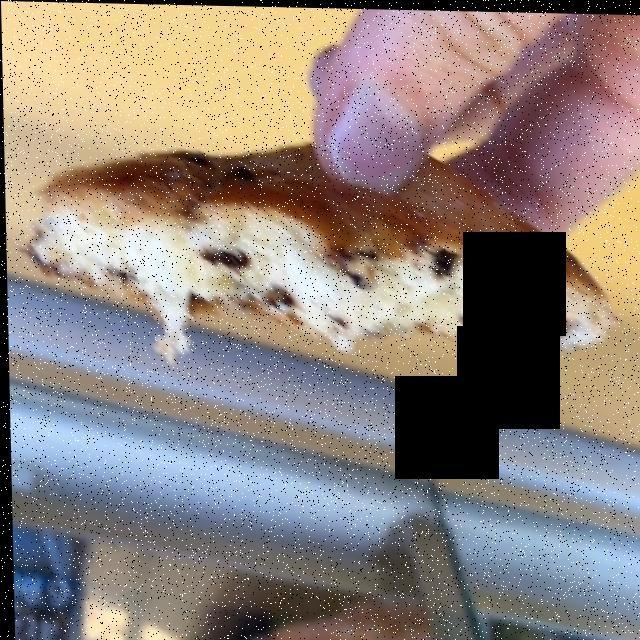bread: (29, 155, 610, 362)
